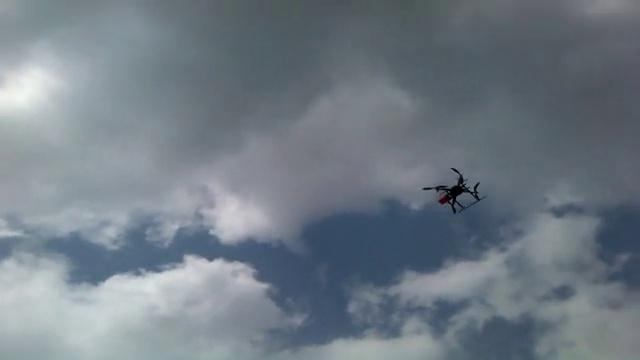drone: (420, 165, 487, 215)
